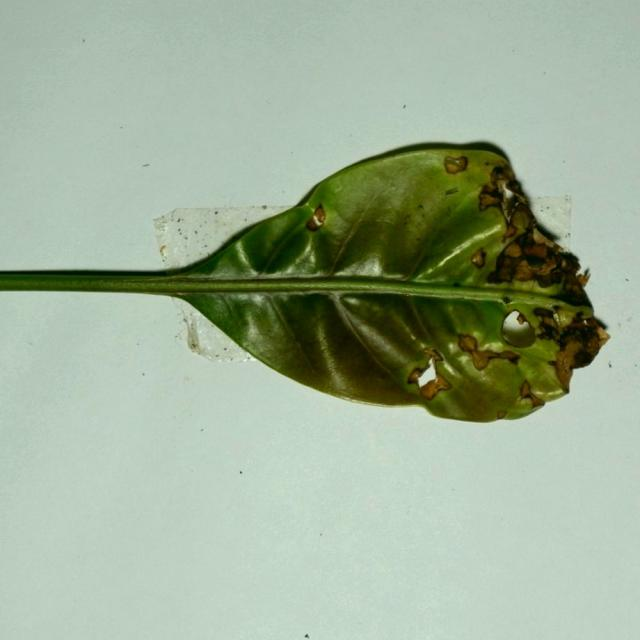Anthracnose: (486, 224, 582, 293), (548, 312, 609, 386), (476, 164, 524, 228), (453, 331, 518, 376), (407, 352, 450, 400), (524, 226, 571, 264), (555, 346, 578, 388), (518, 380, 545, 408), (494, 254, 524, 279), (533, 307, 558, 335), (477, 188, 504, 212), (305, 203, 326, 231), (443, 155, 469, 175), (489, 165, 512, 187), (590, 323, 610, 348), (523, 242, 549, 260), (457, 333, 478, 353), (504, 179, 524, 198), (502, 241, 524, 258), (422, 347, 444, 363), (470, 248, 486, 269), (407, 367, 424, 385), (486, 269, 503, 284), (519, 381, 532, 399), (584, 317, 601, 330), (516, 313, 527, 325), (403, 214, 412, 225), (497, 410, 507, 419), (159, 245, 167, 256), (548, 359, 556, 367)
Mango: (0, 141, 611, 426)
